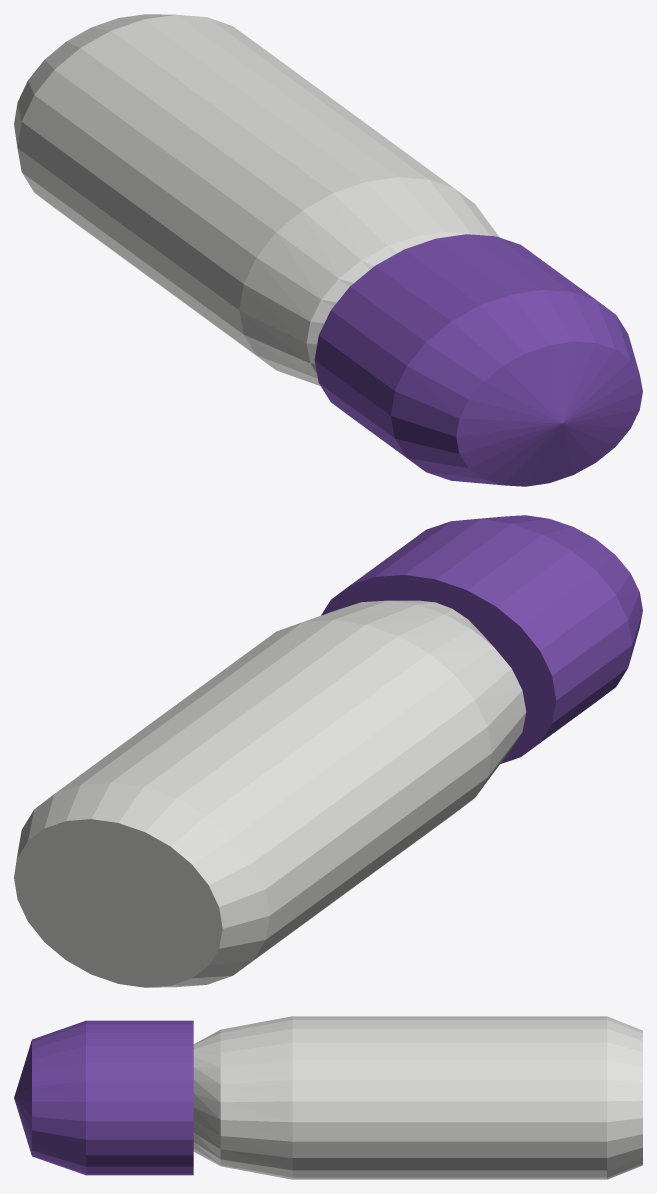
Rendered from desodorante_roll_on.obj.
3 views of the same model, one above another, from view 1: azimuth 30°, elevation 25°; view 2: azimuth 150°, elevation 25°; view 3: azimuth 270°, elevation 25° (orthographic). The views are drawn at different scales.
Parts seen in each view (by area): view 1: desodorante_roll_on_frasco, desodorante_roll_on_tampa; view 2: desodorante_roll_on_frasco, desodorante_roll_on_tampa; view 3: desodorante_roll_on_frasco, desodorante_roll_on_tampa.
Part boxes in pixels (left/top/right/bottom): desodorante_roll_on_frasco: left=14, top=14, right=499, bottom=385; desodorante_roll_on_tampa: left=314, top=234, right=642, bottom=486; desodorante_roll_on_frasco: left=14, top=600, right=526, bottom=987; desodorante_roll_on_tampa: left=321, top=515, right=642, bottom=763; desodorante_roll_on_frasco: left=193, top=1016, right=642, bottom=1179; desodorante_roll_on_tampa: left=14, top=1020, right=193, bottom=1175.
Bounding box in the file's own units: 46 × 34 × 140.
